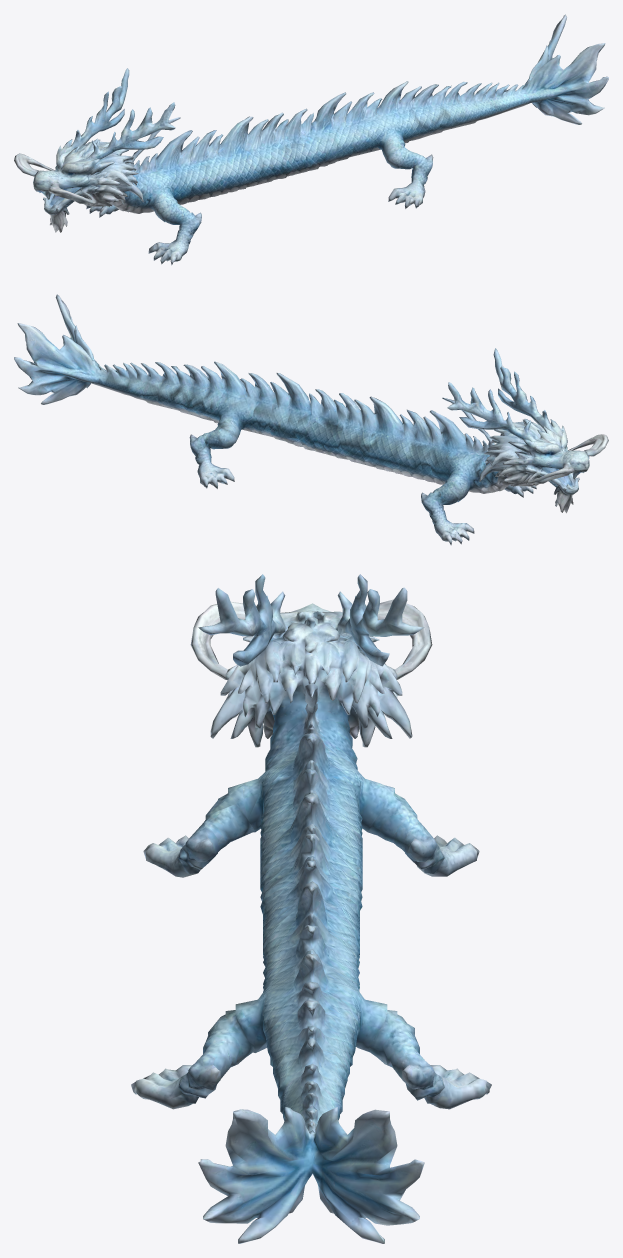
The model's file is ice_dragon.glb.
3 renders of one model, top to bottom at view 1: azimuth 30°, elevation 25°; view 2: azimuth 150°, elevation 25°; view 3: azimuth 270°, elevation 25°, orthographic. The views are drawn at different scales.
Parts seen in each view (by area): view 1: tripo_node_4bff324c-feb5-4d50-a7e6-e50a7414c473; view 2: tripo_node_4bff324c-feb5-4d50-a7e6-e50a7414c473; view 3: tripo_node_4bff324c-feb5-4d50-a7e6-e50a7414c473.
Part boxes in pixels (box(x1,y1,x2,y2)): tripo_node_4bff324c-feb5-4d50-a7e6-e50a7414c473: box(14, 14, 608, 265); tripo_node_4bff324c-feb5-4d50-a7e6-e50a7414c473: box(14, 294, 608, 545); tripo_node_4bff324c-feb5-4d50-a7e6-e50a7414c473: box(131, 574, 491, 1243).
Size of the model in its own units: 0.9814 by 0.2477 by 0.2785.
Materials: 1 (1 with a texture image).
